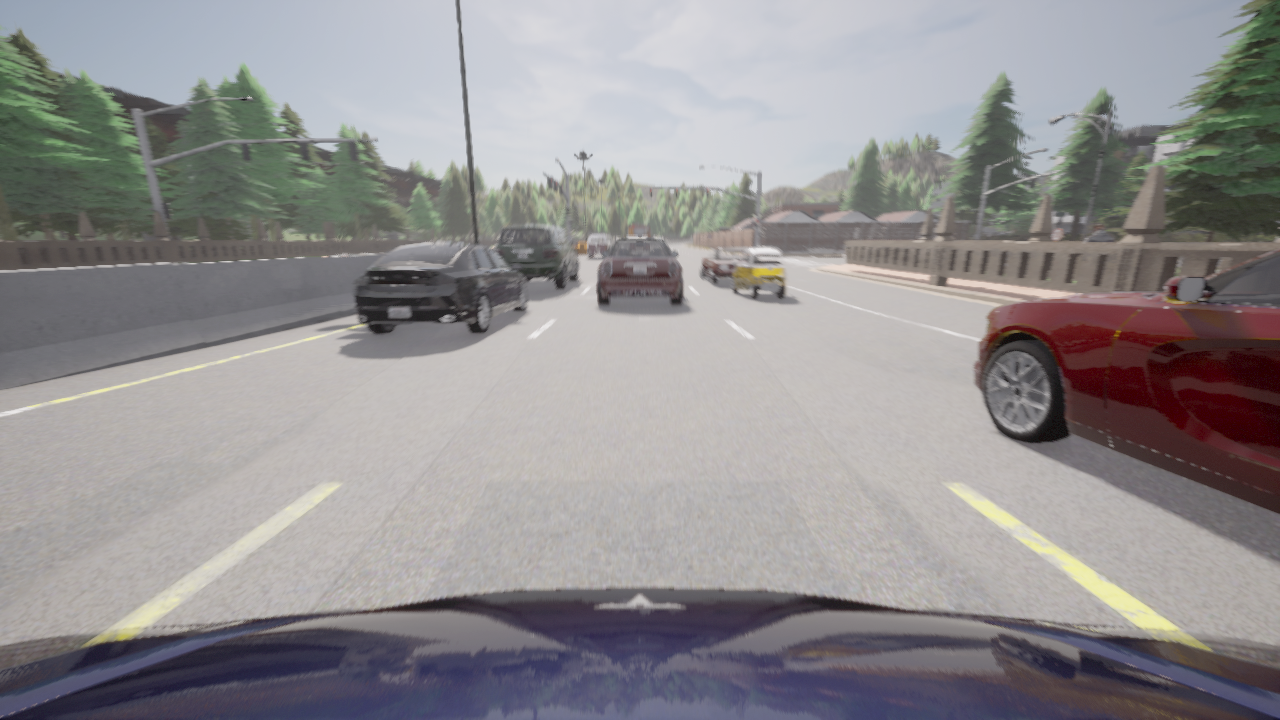cyclist: (0, 588, 1279, 719), (974, 249, 1279, 514), (353, 242, 527, 333), (597, 236, 682, 304), (495, 226, 578, 289), (731, 248, 786, 299), (700, 248, 746, 283), (587, 234, 611, 258), (628, 222, 650, 236)
pedestrian: (1078, 224, 1114, 256)
